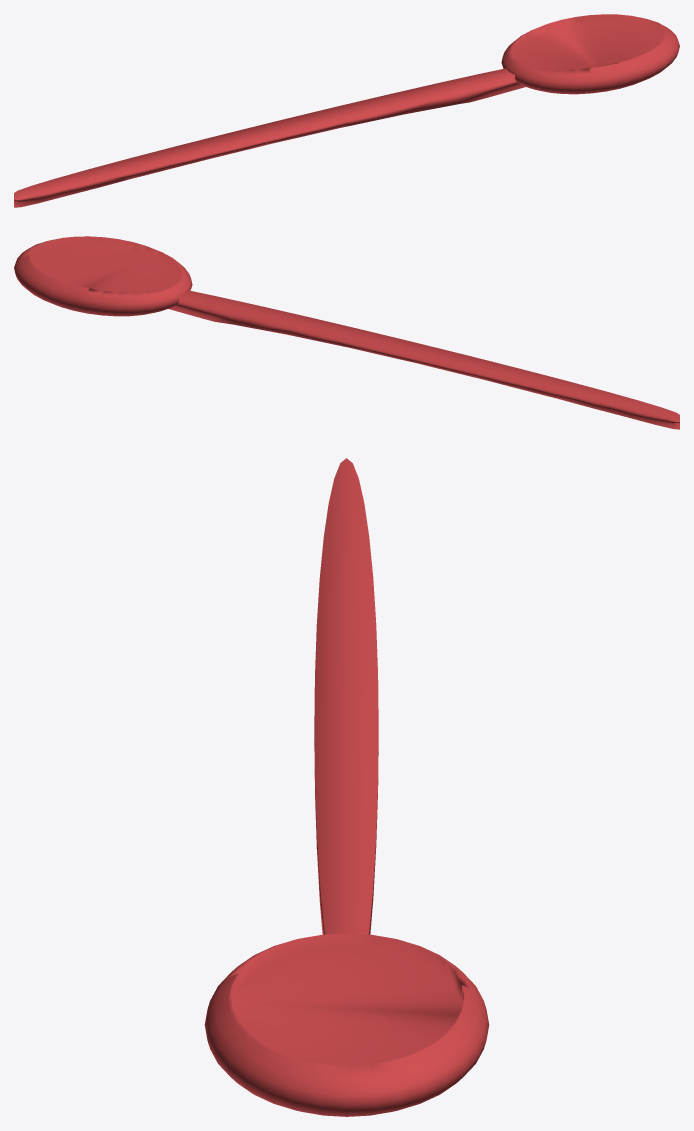
File: cuchara.obj
3 views of the same model, one above another, from view 1: azimuth 30°, elevation 25°; view 2: azimuth 150°, elevation 25°; view 3: azimuth 270°, elevation 25° (orthographic). The views are drawn at different scales.
Visible parts, largest first — view 1: Cylinder; view 2: Cylinder; view 3: Cylinder.
Boxes of the visible parts, <box> form: Cylinder: <box>14,14,679,207</box>; Cylinder: <box>14,236,679,429</box>; Cylinder: <box>204,458,489,1116</box>.
Bounding box in the file's own units: 9.93 × 0.5224 × 1.86.
